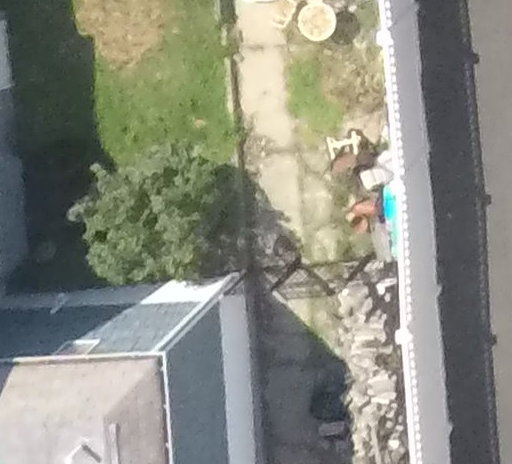container: (342, 211, 372, 238)
fence: (372, 1, 436, 458), (251, 262, 396, 293)
